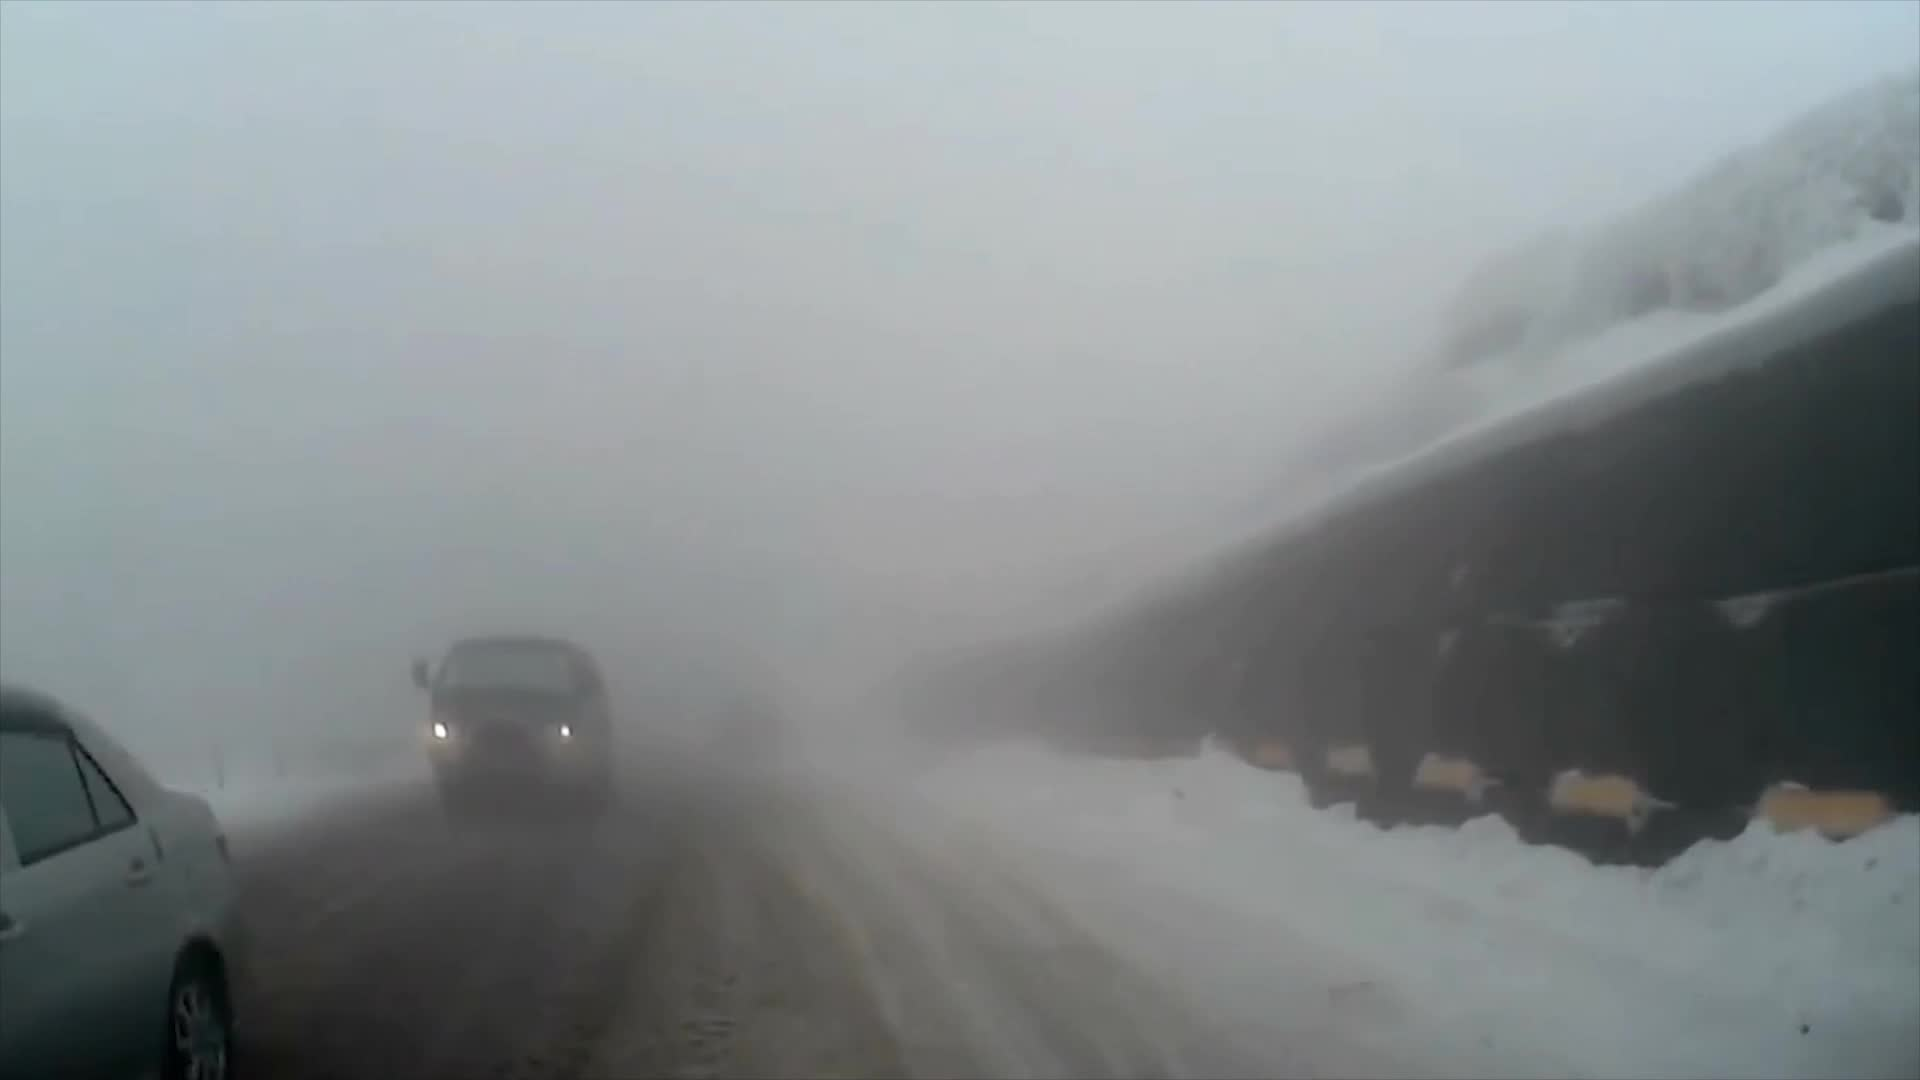vehicle: (0, 678, 237, 1080), (405, 634, 615, 822)
